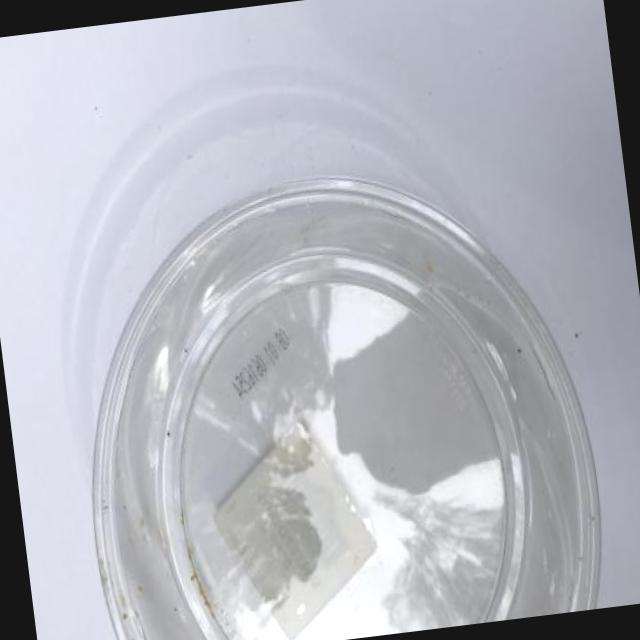Recycle: (52, 147, 629, 640)
